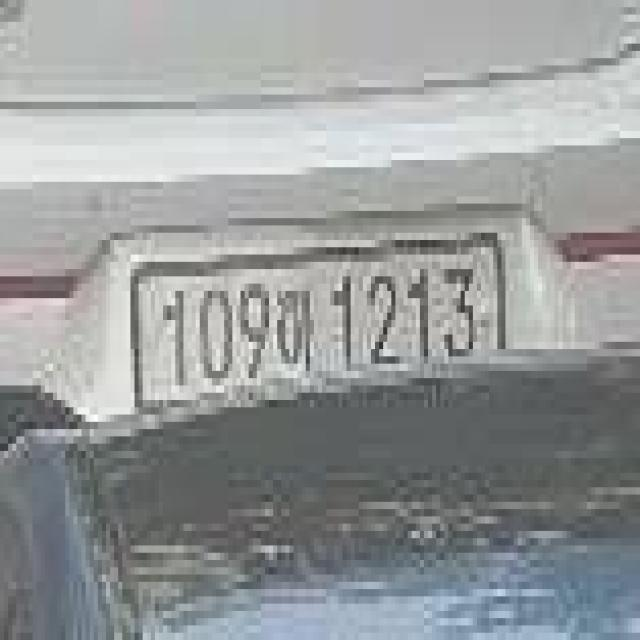illegal_plate: (128, 235, 515, 416)
